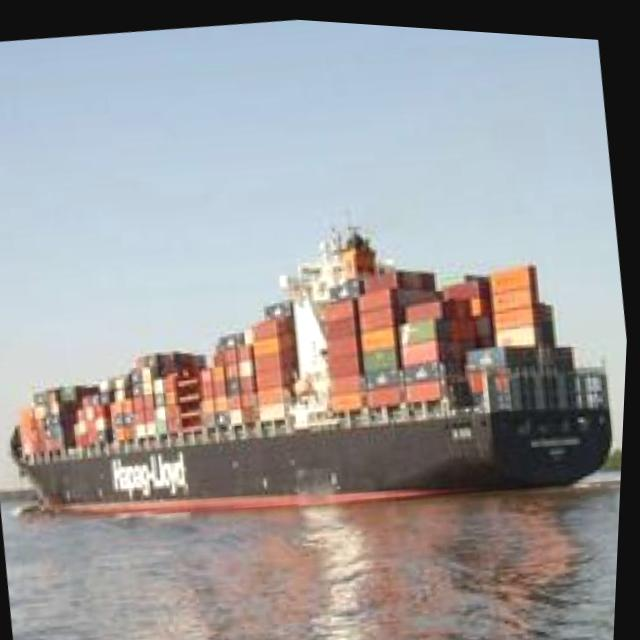ship2: (14, 236, 620, 521)
